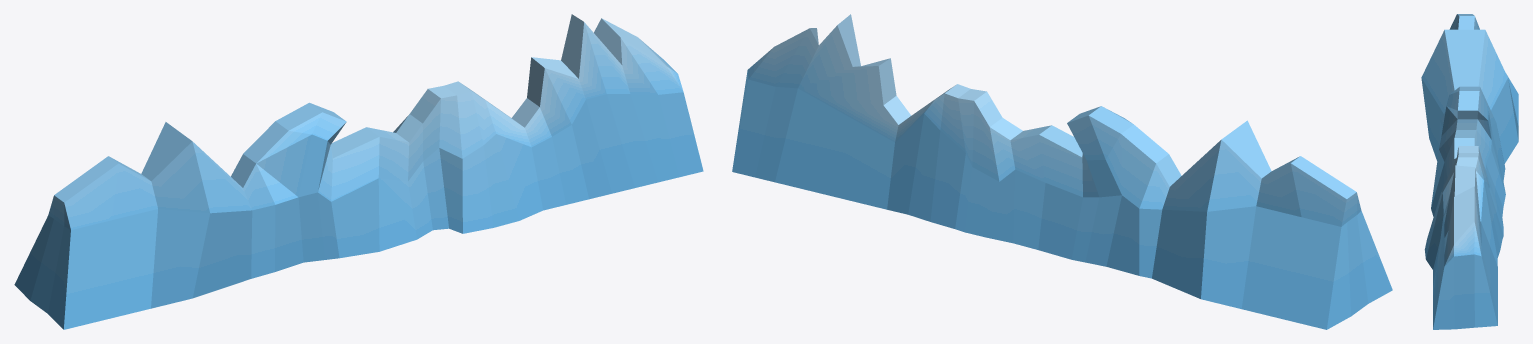
File: BG_Row3.fbx
The picture shows the model from 3 angles, left to right: view 1: azimuth 30°, elevation 25°; view 2: azimuth 150°, elevation 25°; view 3: azimuth 270°, elevation 25°; orthographic projection. The views are drawn at different scales.
Parts seen in each view (by area): view 1: Row 2; view 2: Row 2; view 3: Row 2.
Boxes of the visible parts, bbox=[...] form: Row 2: bbox=[14, 14, 703, 329]; Row 2: bbox=[732, 14, 1392, 329]; Row 2: bbox=[1421, 14, 1518, 329].
Size of the model in its own units: 19935 by 4874 by 3420.
